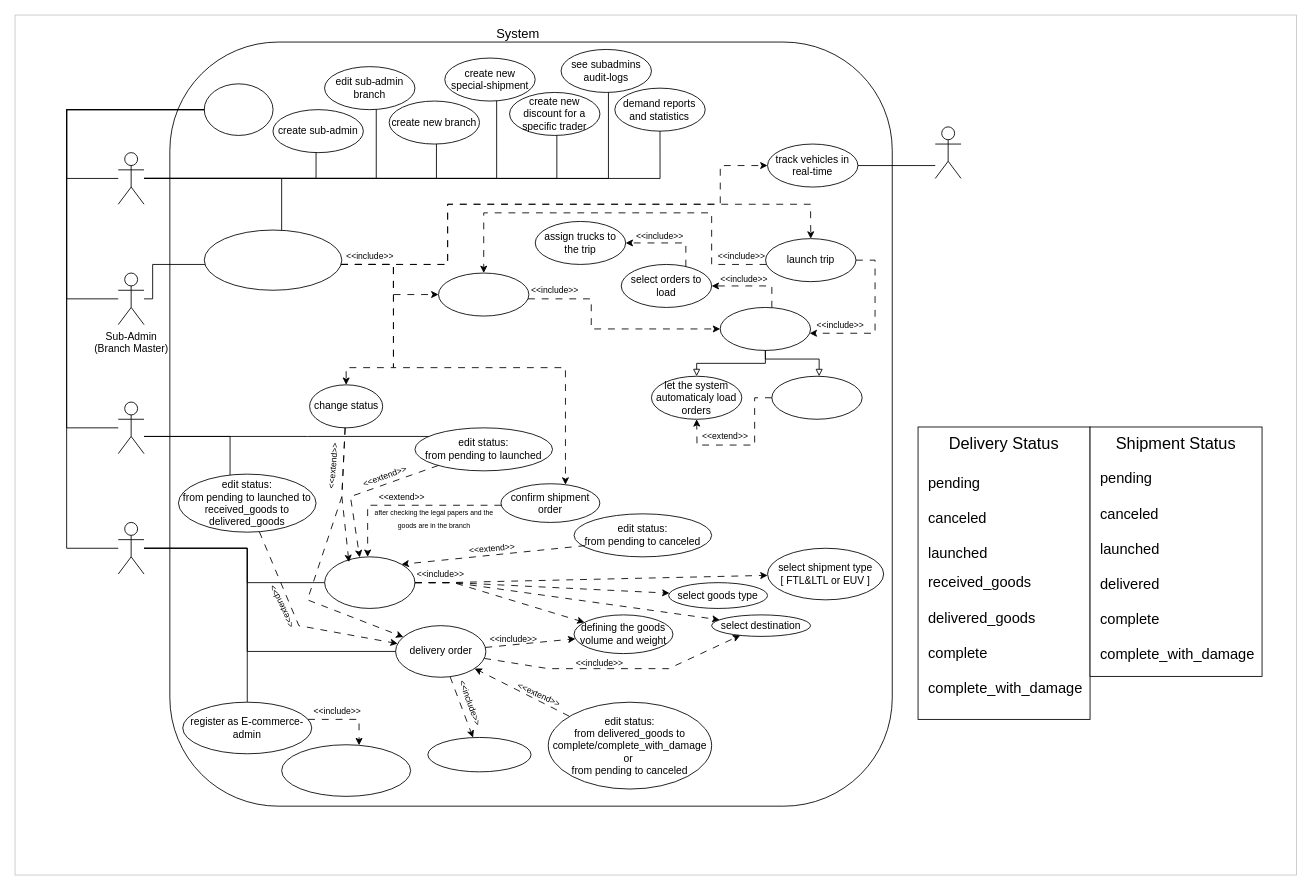
Some shapes in this 1312 by 890 pixel diagram are drawn without their labels. The centre of each missing label's shape, as x and y in pixels:
"Admin" goes at point (130, 178).
"admin -> all-branches sub-admin -> his-branch only" goes at point (272, 259).
"Captain" goes at point (130, 427).
"create new trip" goes at point (483, 294).
"getting a secret key from the official website" goes at point (346, 770).
"GPS (Mobile GPS / Device)" goes at point (947, 152).
"load orders in trucks" goes at point (765, 328).
"load orders manually" goes at point (816, 397).
"select delivary type" goes at point (479, 754).
"shipment order" goes at point (369, 582).
"sign-in" goes at point (238, 109).
"Trader (user)" goes at point (130, 548).
